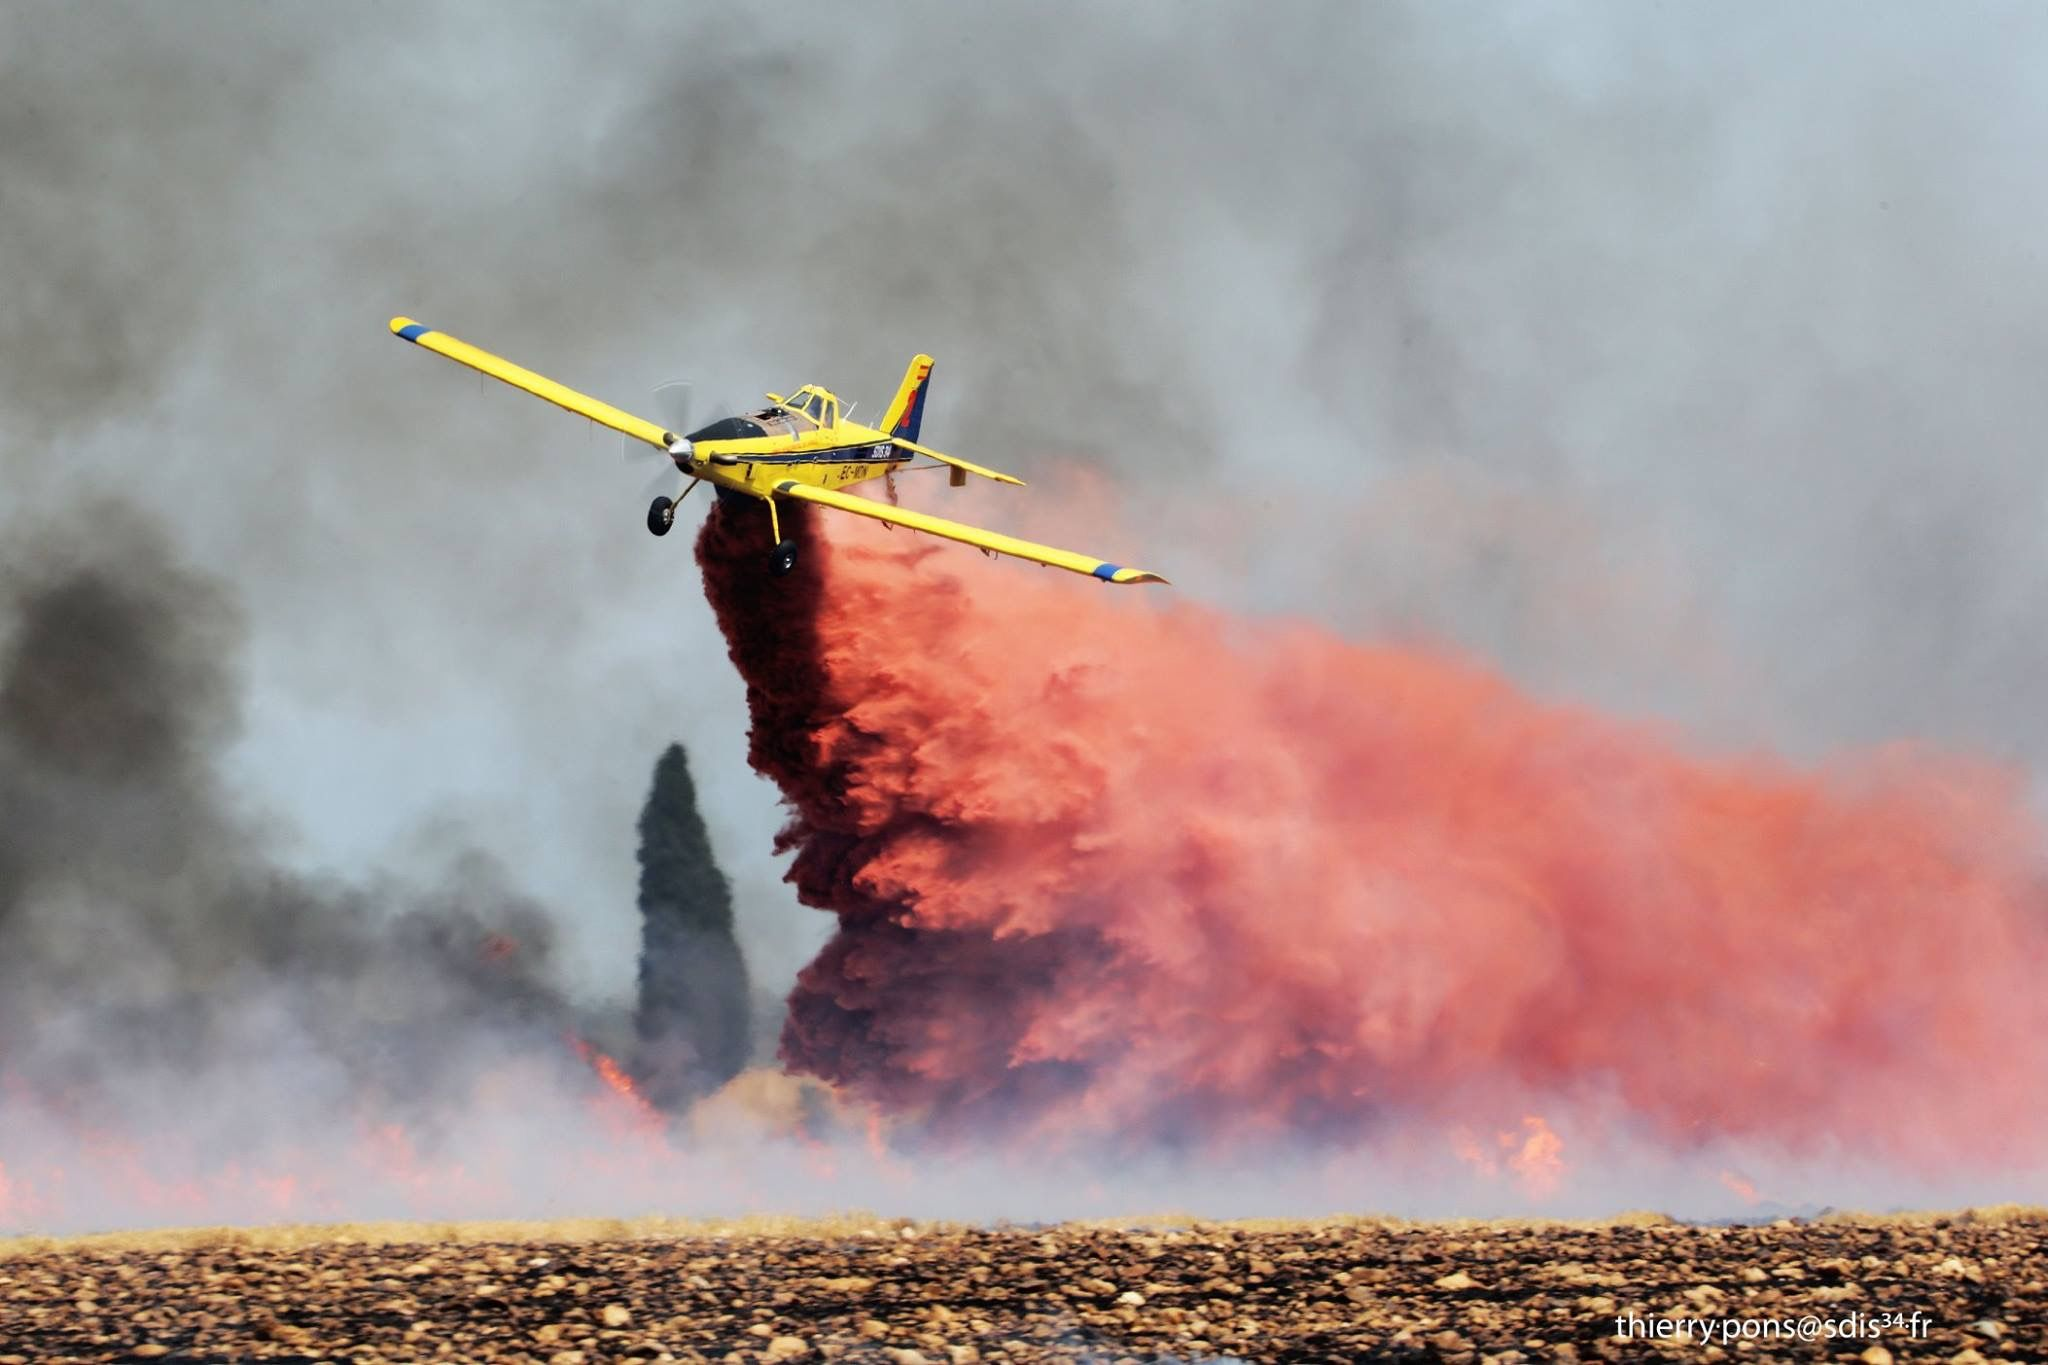Aeronef_de_service: (356, 285, 1204, 667)
